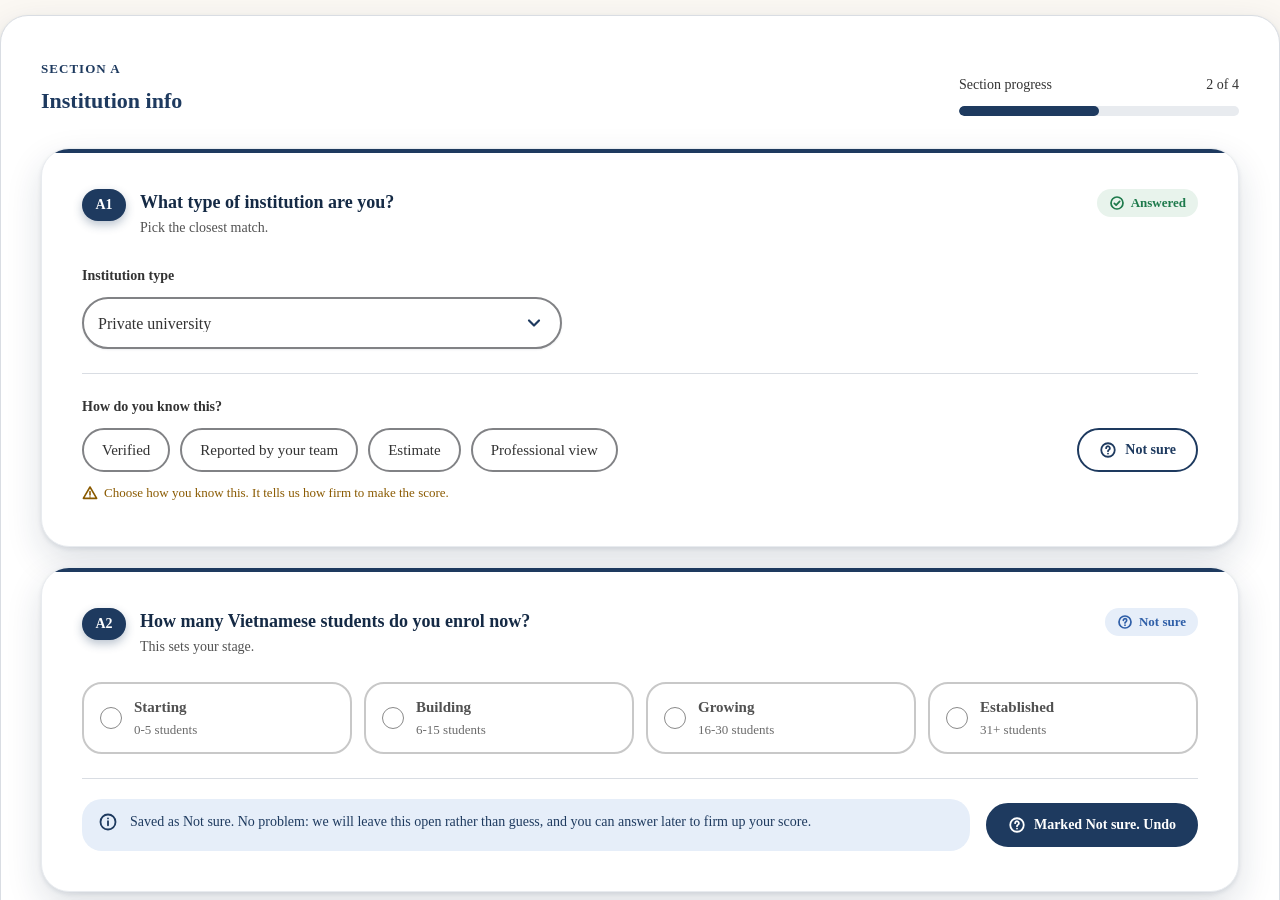
IntakePage overview › counts answered and Not sure, and says how many are marked Not sure
The width and height of the screenshot is (1280, 900).
(page scrolled)
Step 1. Click the button "Not sure" → [1138, 450], box x1=1077 y1=428 x2=1198 y2=472
(page scrolled)
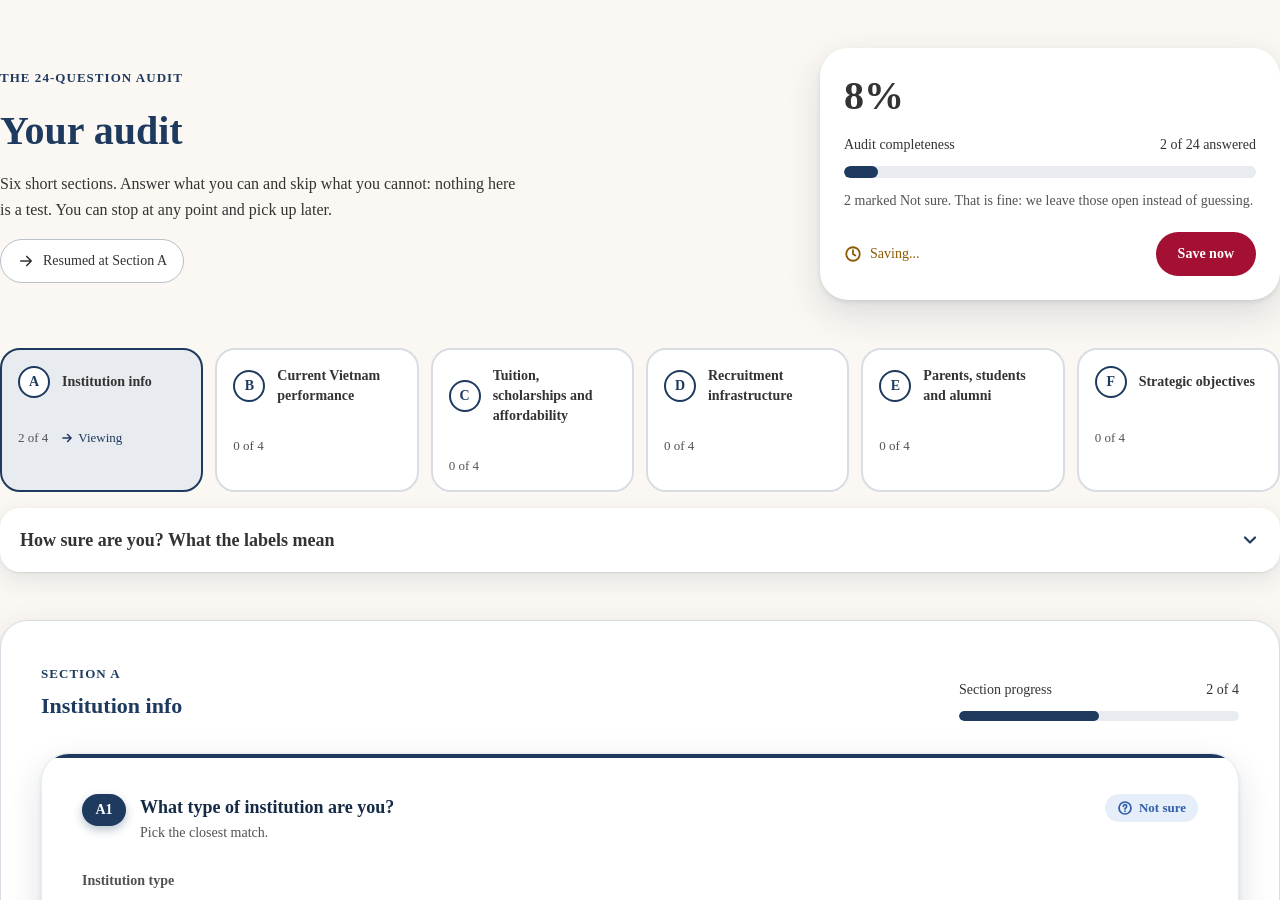
Expected: the text "2 marked Not sure. That is fine: we leave those open instead of guessing." is shown, x1=844 y1=190 x2=1256 y2=212
